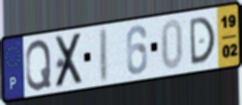0: (159, 18, 185, 72)
6: (125, 24, 149, 76)
D: (188, 15, 217, 68)
I: (98, 25, 110, 85)
Q: (24, 38, 53, 93)
X: (54, 30, 85, 90)
